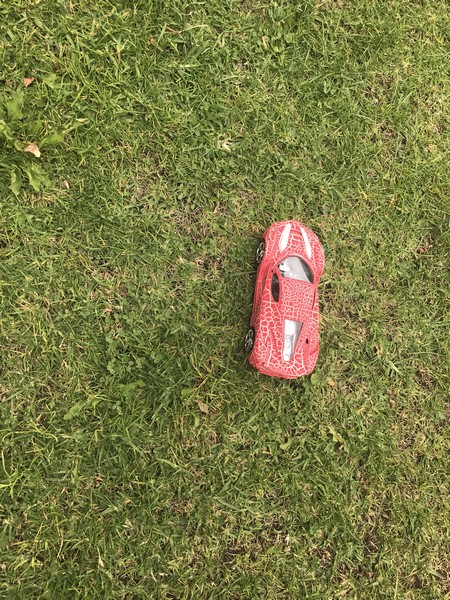RC: (242, 214, 325, 383)
